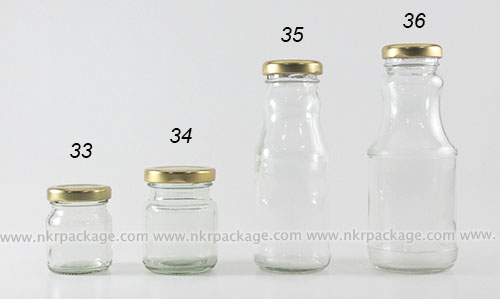glass_bottle: (358, 38, 466, 287), (252, 54, 337, 279), (140, 163, 226, 280), (43, 180, 119, 278)
